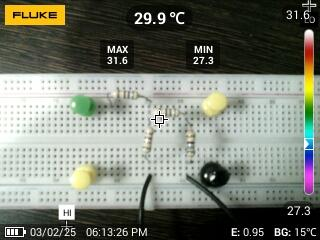resistor: (139, 125, 157, 158), (152, 105, 184, 120), (183, 127, 197, 160), (109, 88, 141, 102)
